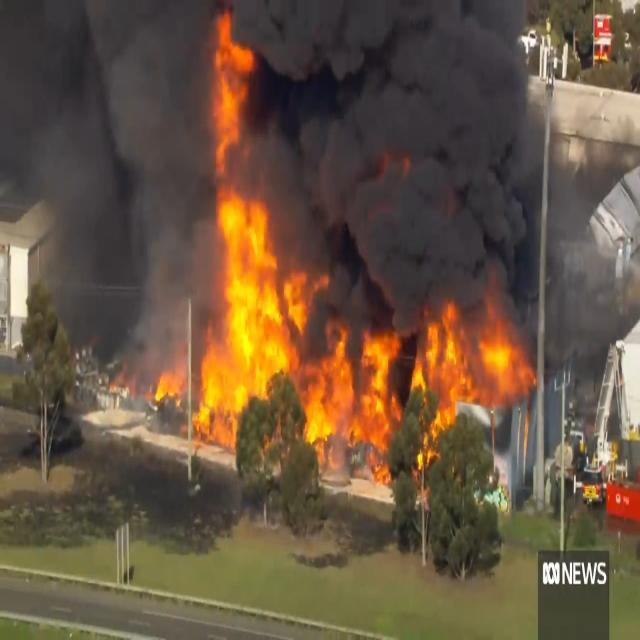fire: (172, 281, 532, 478), (201, 3, 305, 286)
